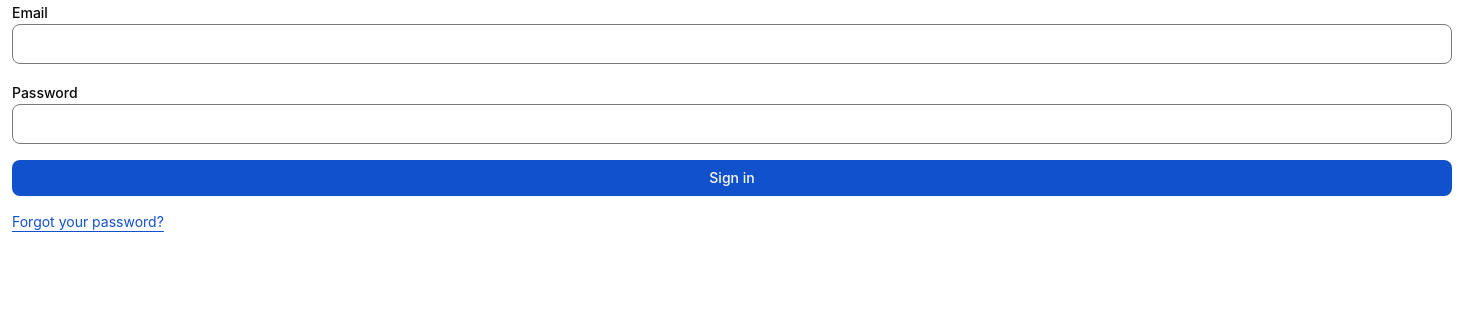
Scenario: SignInForm › falls back to a network message when the action throws
Step 1. Type "a@example.com" into the field labelled "Email" → (732, 44), box [12,24,1452,64]
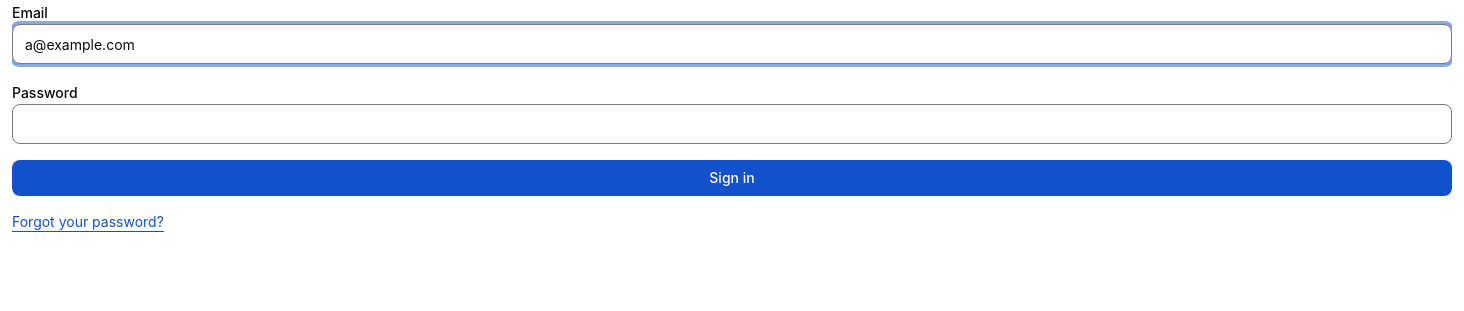
Step 2. Type "x" into the password field labelled "Password" → (732, 124), box [12,104,1452,144]
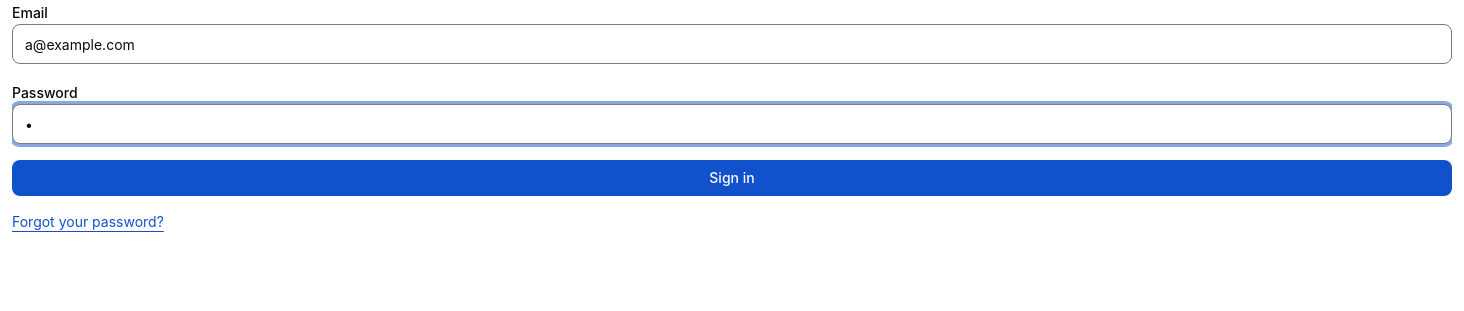
Step 3. Click the button "Sign in" → (732, 178), box [12,160,1452,196]
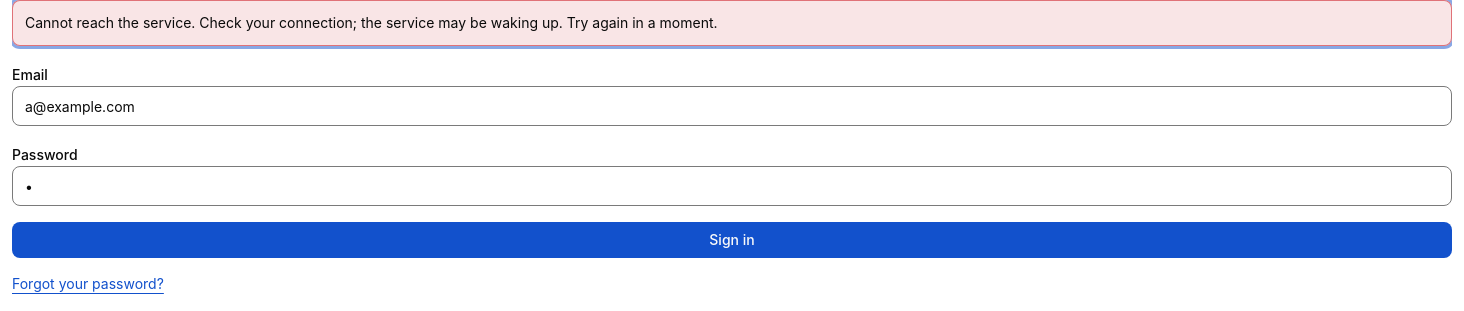
Expected: the message shows "Cannot reach the service", [25,14,718,31]
